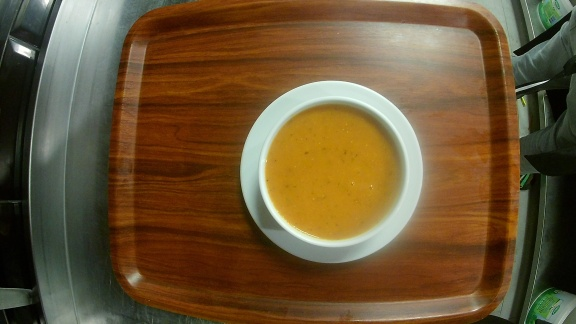ezogelin: (239, 79, 424, 264)
